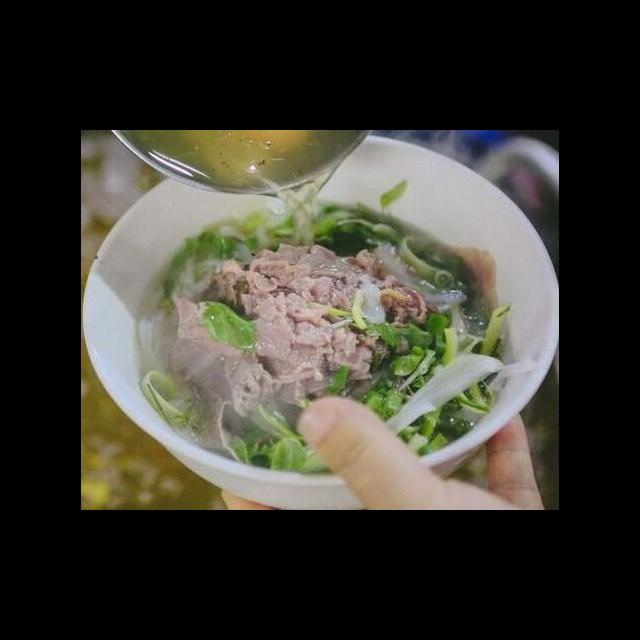thit bo: (191, 254, 392, 411), (244, 237, 431, 369), (165, 287, 305, 436)
